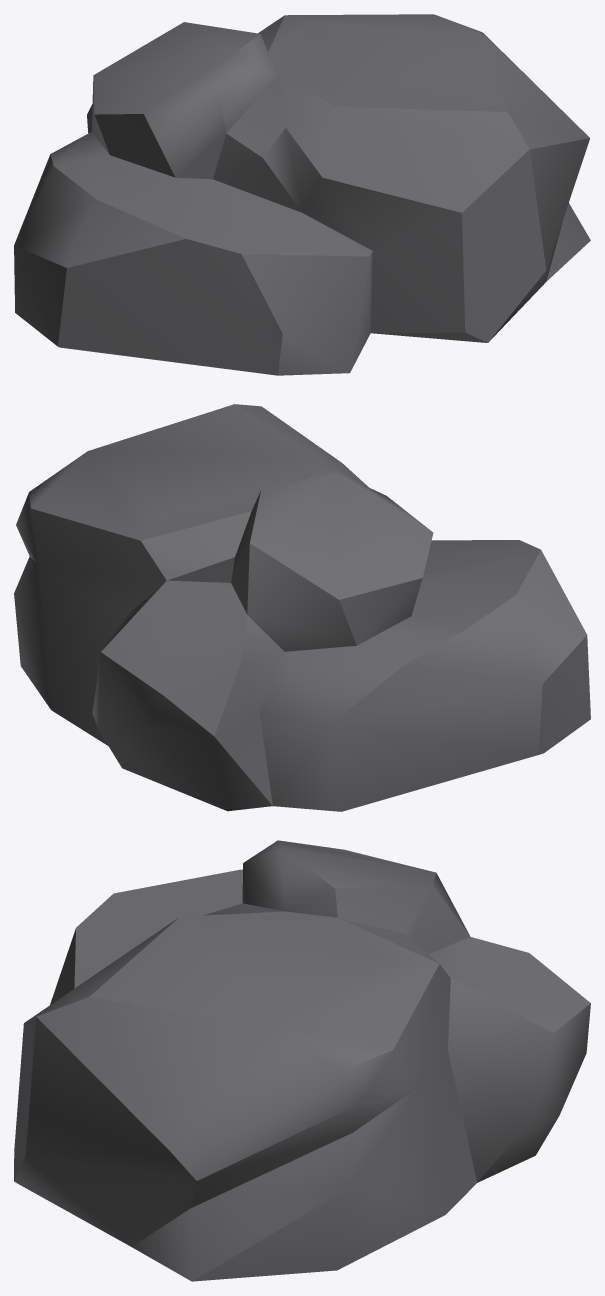
The model's file is Stone_15.fbx.
3 views of the same model, one above another, from view 1: azimuth 30°, elevation 25°; view 2: azimuth 150°, elevation 25°; view 3: azimuth 270°, elevation 25° (orthographic). The views are drawn at different scales.
Visible parts, largest first — view 1: Stone_15; view 2: Stone_15; view 3: Stone_15.
Boxes of the visible parts, x1=… form: Stone_15: x1=14, y1=14, x2=590, y2=375; Stone_15: x1=14, y1=404, x2=590, y2=811; Stone_15: x1=14, y1=840, x2=590, y2=1281.
Size of the model in its own units: 329 by 147 by 280.
